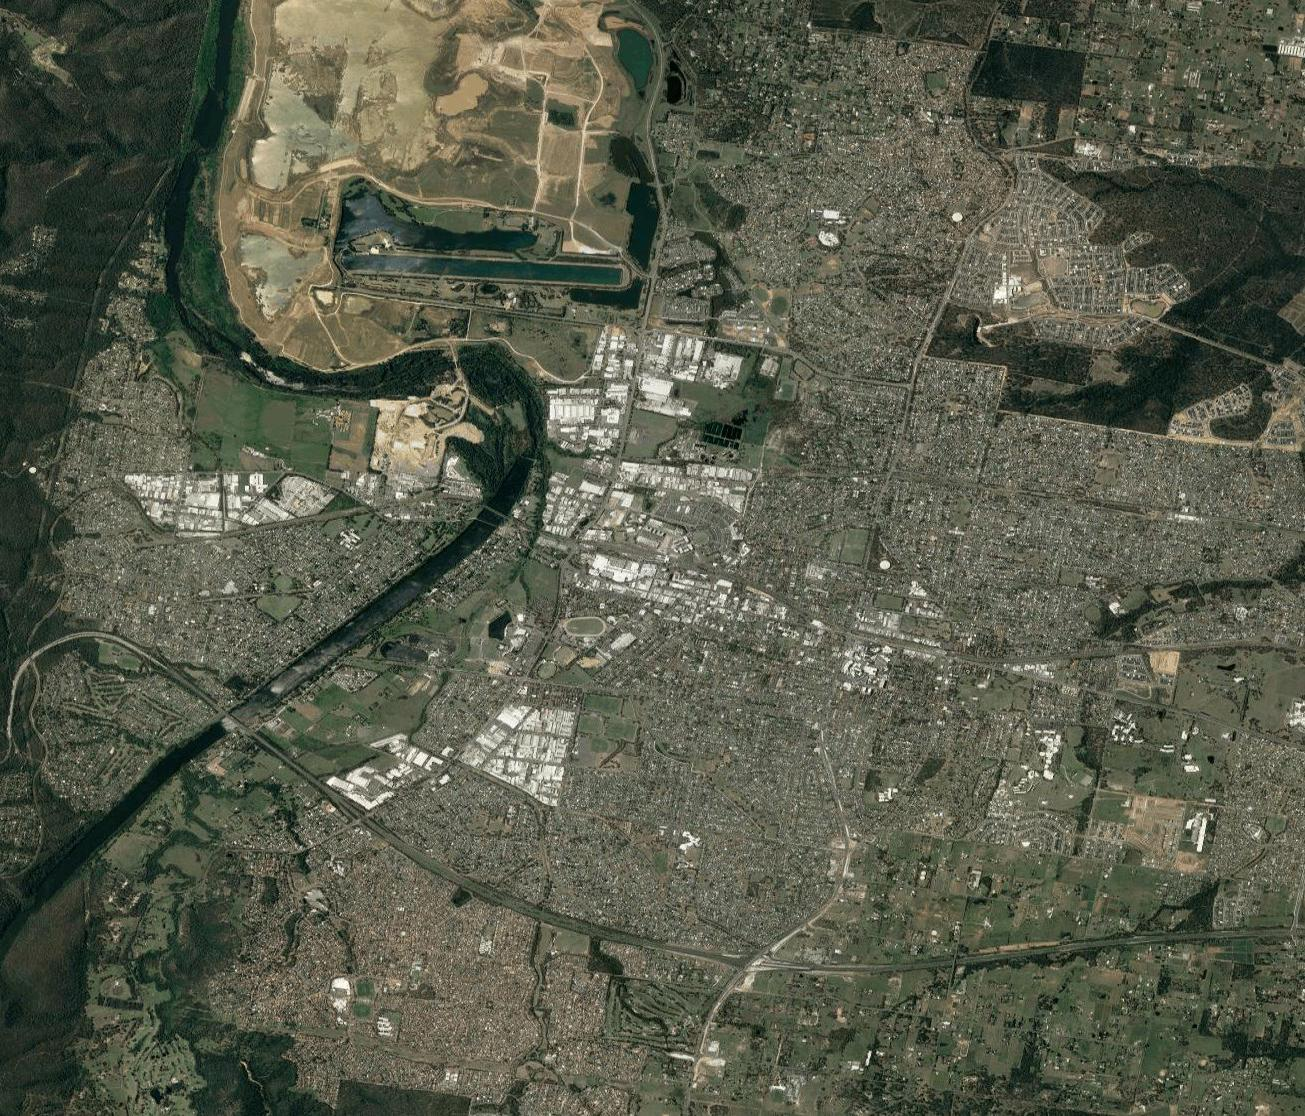bridge: (481, 500, 509, 520), (512, 453, 536, 465)
industrial: (594, 322, 712, 422), (130, 467, 276, 538), (469, 705, 573, 802), (329, 726, 436, 809), (617, 457, 750, 512), (541, 374, 628, 458), (583, 556, 687, 614), (543, 472, 598, 538)
